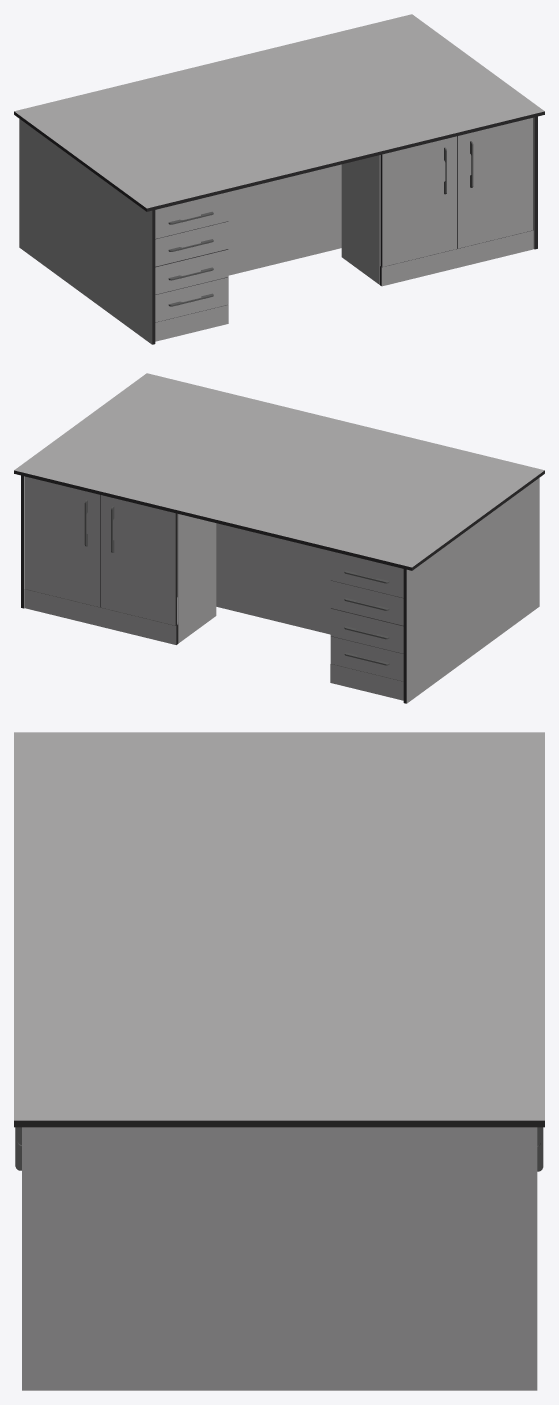
Rendered from Table 3.FBX.
The picture shows the model from 3 angles, top to bottom: view 1: azimuth 30°, elevation 25°; view 2: azimuth 150°, elevation 25°; view 3: azimuth 270°, elevation 25°; orthographic projection. The views are drawn at different scales.
Parts seen in each view (by area): view 1: Table 3; view 2: Table 3; view 3: Table 3.
Part boxes in pixels (x1,y1,x2,y2): Table 3: [14, 14, 544, 344]; Table 3: [14, 373, 544, 703]; Table 3: [14, 732, 544, 1390].
Bounding box in the file's own units: 2275 × 1315 × 751.
